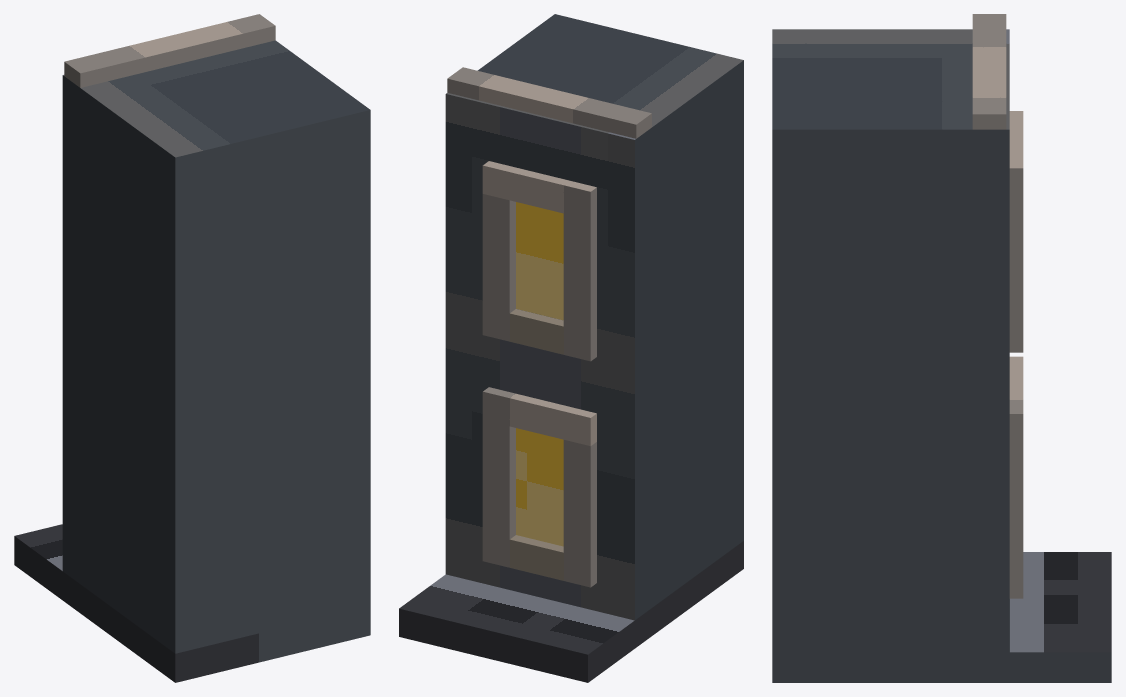
File: SM_BuildingWall.gltf
The picture shows the model from 3 angles, left to right: view 1: azimuth 30°, elevation 25°; view 2: azimuth 150°, elevation 25°; view 3: azimuth 270°, elevation 25°; orthographic projection. The views are drawn at different scales.
Parts seen in each view (by area): view 1: cube (×3); view 2: cube (×11); view 3: cube (×7).
Boxes of the visible parts, x1,y1,x2,y2 form: cube (×3): (14, 14, 370, 682); cube (×11): (399, 14, 743, 682); cube (×7): (772, 14, 1111, 682).
Bounding box in the file's own units: 0.4375 × 1.16 × 0.625.
2 materials, 2 textured.
